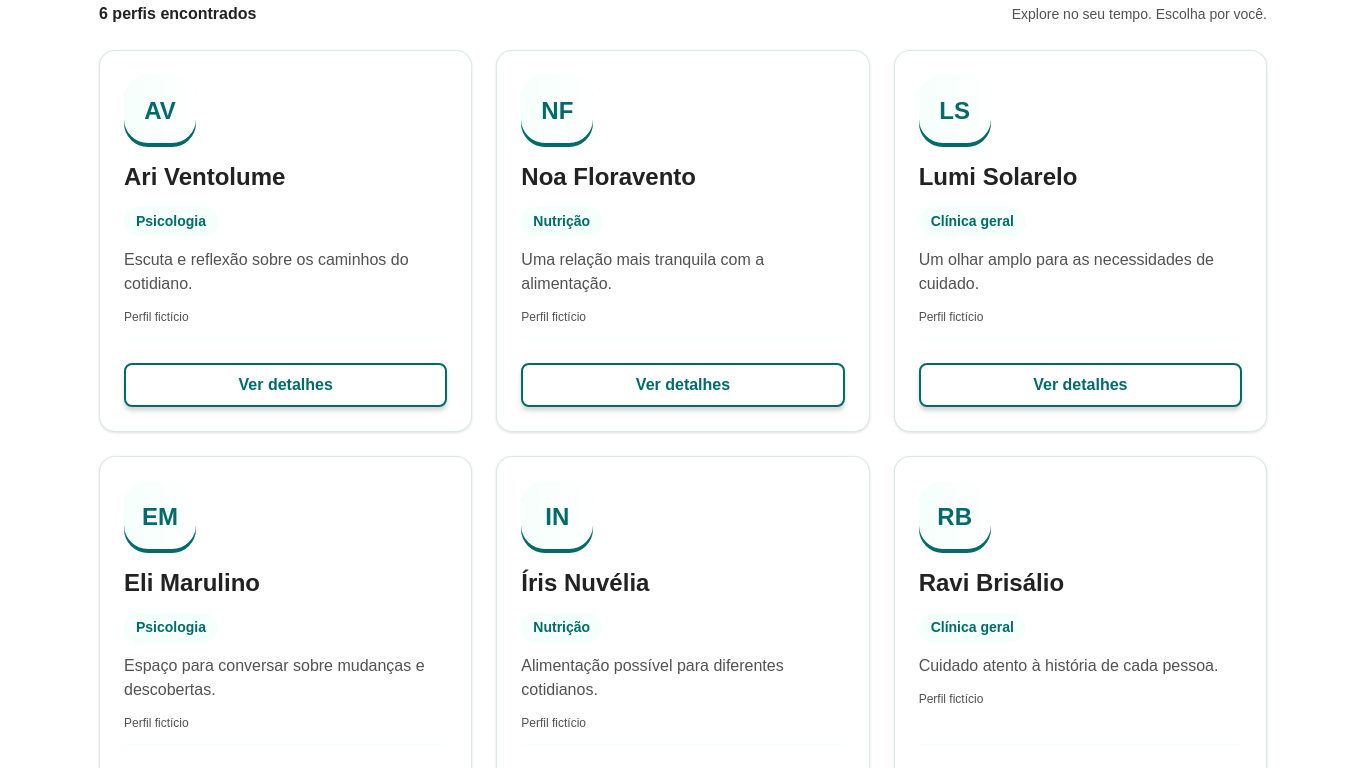
Páginas e exploração › abre detalhes, foca o botão de fechar e restaura o foco
(page scrolled)
Click the button with aria-label "Ver detalhes de Ari Ventolume" at (286, 385), box top-left (124, 363), bottom-right (447, 407)
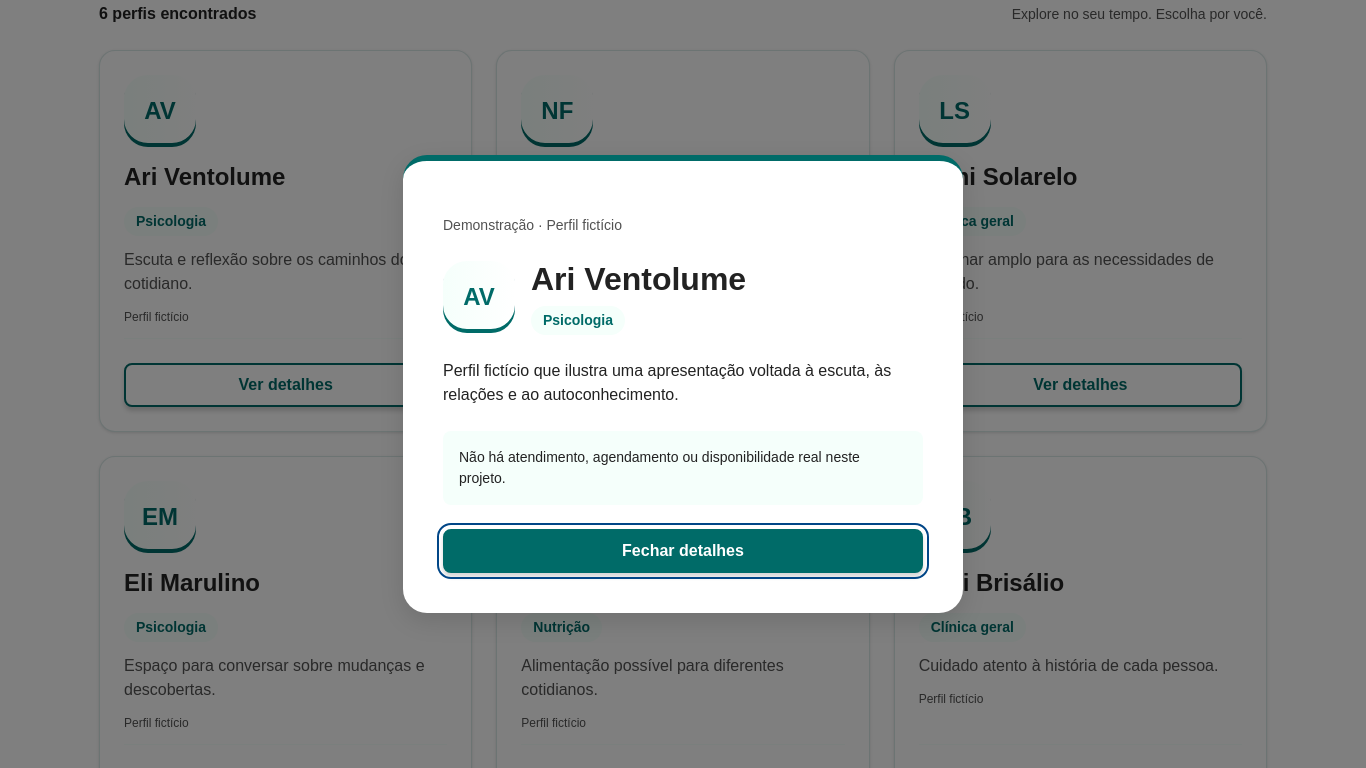
Press Tab
Press Shift+Tab
Click the button "Fechar detalhes" at (683, 551), box top-left (443, 529), bottom-right (923, 573)
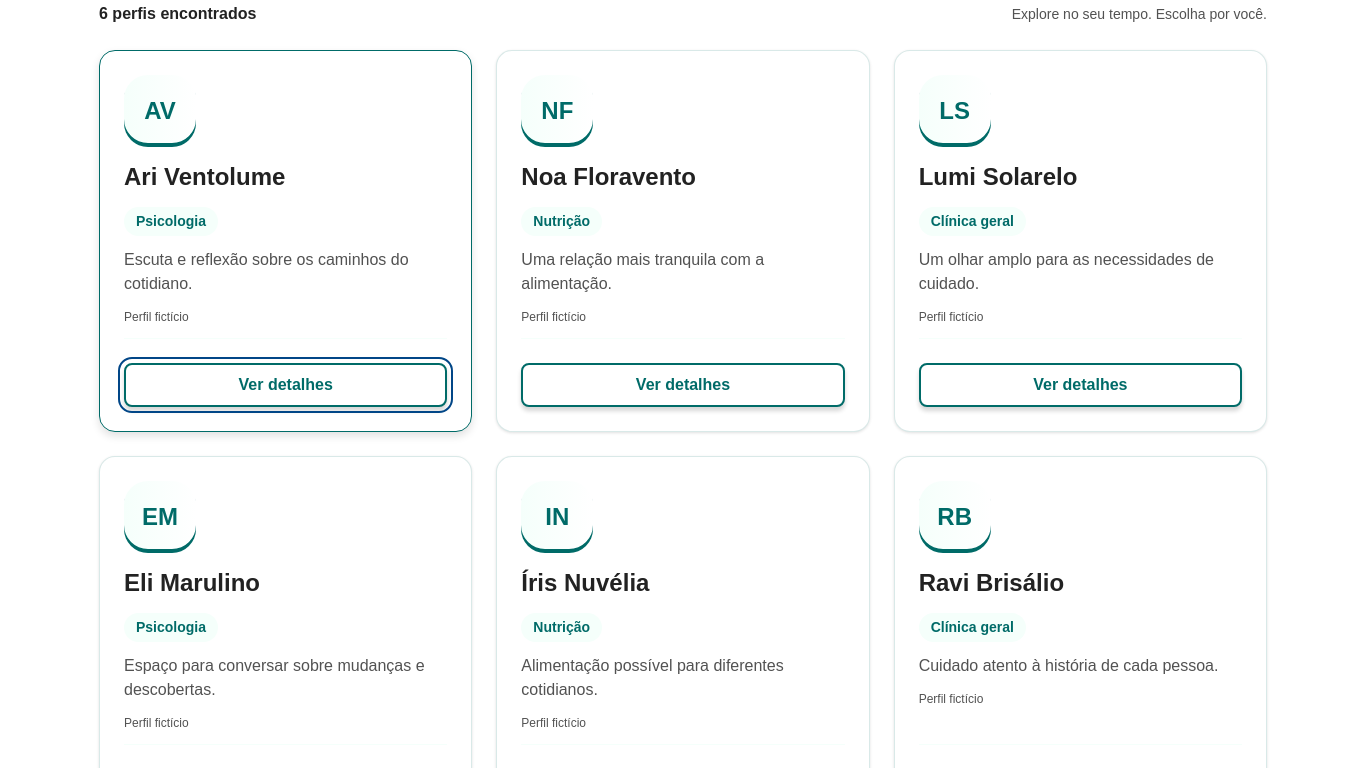
Now the dialog is gone
